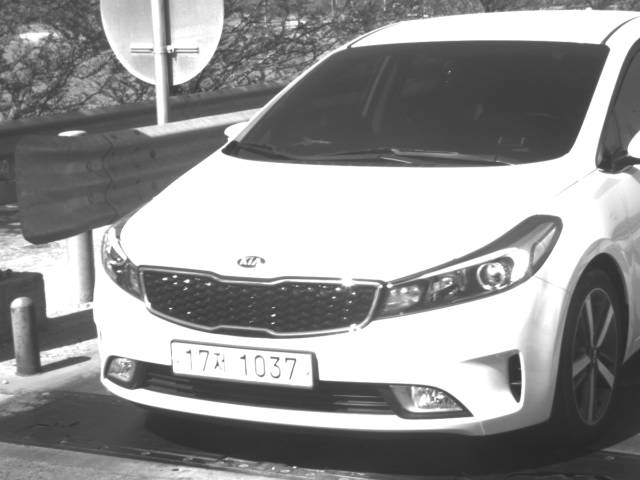car: (92, 8, 640, 438)
plate: (169, 338, 319, 390)
